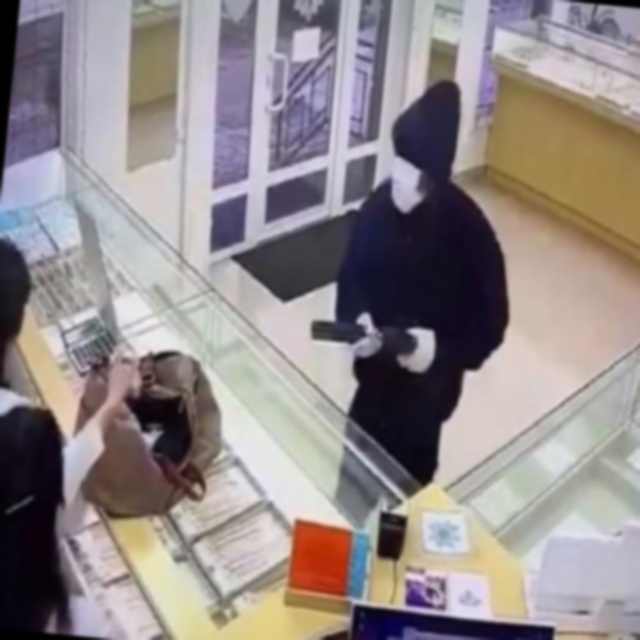gun: (299, 302, 431, 370)
